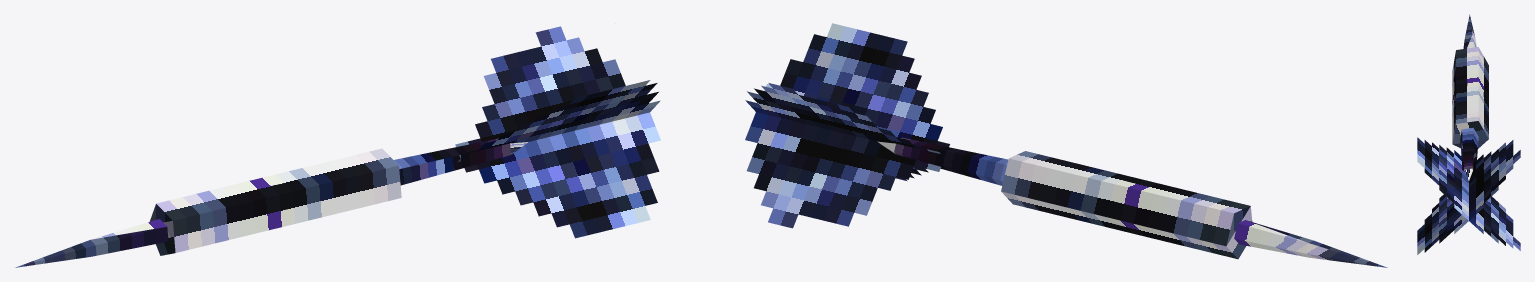
File: DartArrow01.obj
3 views of the same model, side by side, from view 1: azimuth 30°, elevation 25°; view 2: azimuth 150°, elevation 25°; view 3: azimuth 270°, elevation 25° (orthographic). The views are drawn at different scales.
Parts seen in each view (by area): view 1: DartArrow01; view 2: DartArrow01; view 3: DartArrow01.
Part boxes in pixels (x1,y1,x2,y2): DartArrow01: (15,26,660,267); DartArrow01: (745,23,1387,267); DartArrow01: (1417,14,1520,254).
Size of the model in its own units: 0.7128 by 0.1503 by 0.1503.
